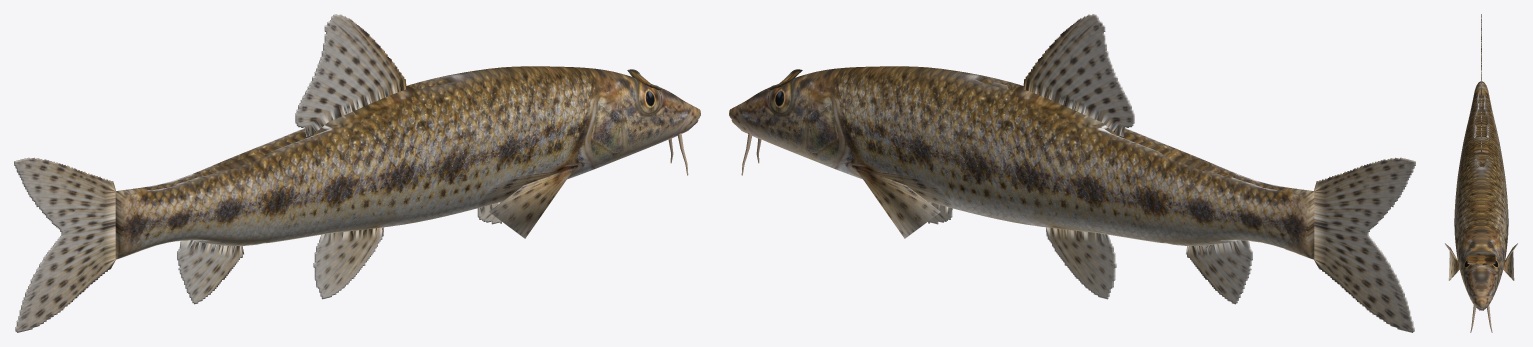
The model's file is gudgeon.glb.
3 views of the same model, side by side, from view 1: azimuth 30°, elevation 25°; view 2: azimuth 150°, elevation 25°; view 3: azimuth 270°, elevation 25° (orthographic). The views are drawn at different scales.
Parts seen in each view (by area): view 1: gudgeon_realistic.003; view 2: gudgeon_realistic.003; view 3: gudgeon_realistic.003.
Part boxes in pixels (bbox=[...]): gudgeon_realistic.003: bbox=[14, 14, 700, 332]; gudgeon_realistic.003: bbox=[729, 14, 1415, 332]; gudgeon_realistic.003: bbox=[1445, 14, 1517, 332].
Bounding box in the file's own units: 1 × 0.392 × 0.1452.
Materials: 3 (3 with a texture image).
